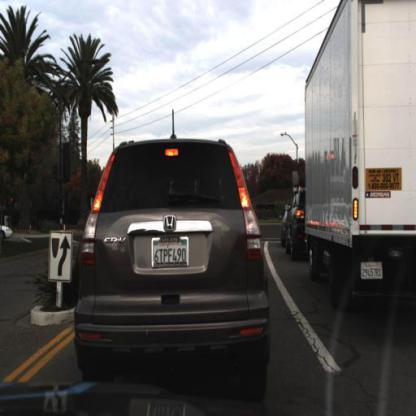car: (77, 136, 270, 391), (285, 187, 313, 257), (1, 221, 15, 244)
truck: (301, 1, 416, 305)
